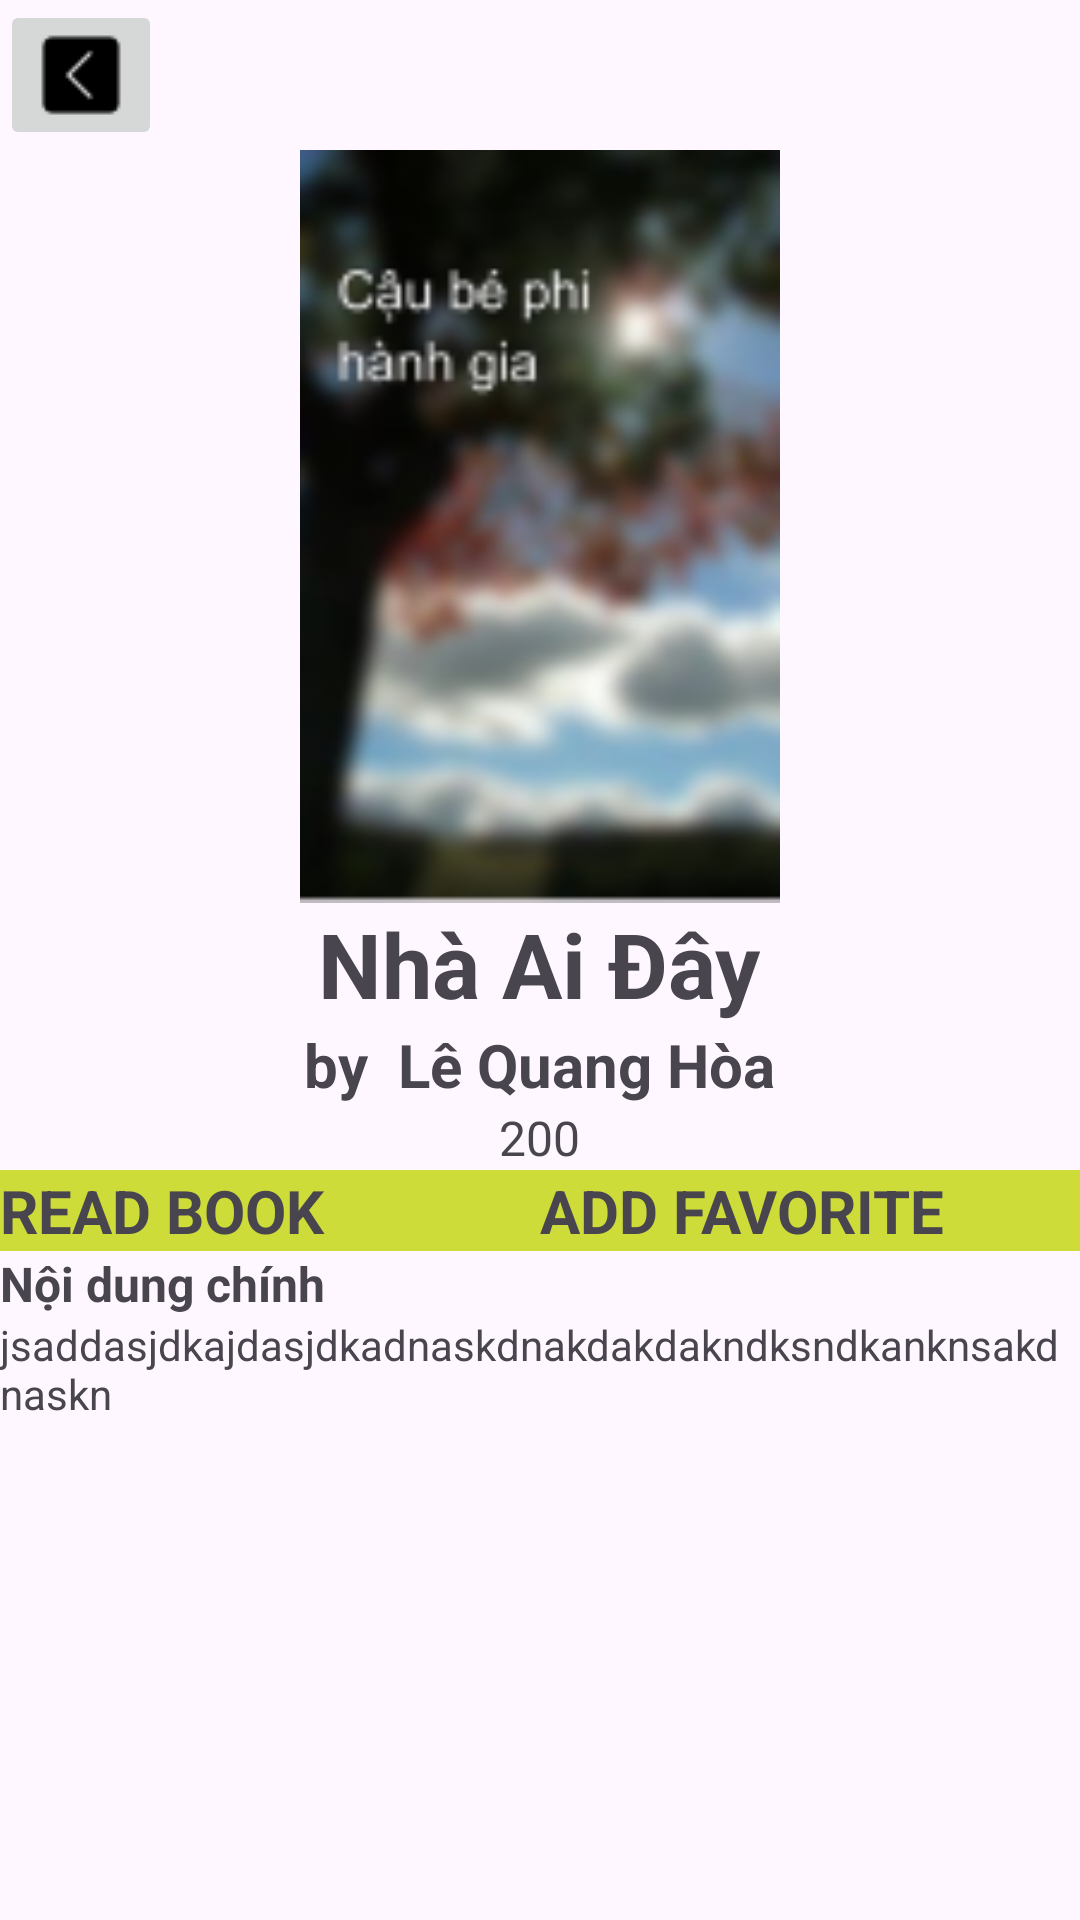

Icons on this 1080*1920 Android screen, each with the point to tap as [x,y]:
prevblack: [81,75]
